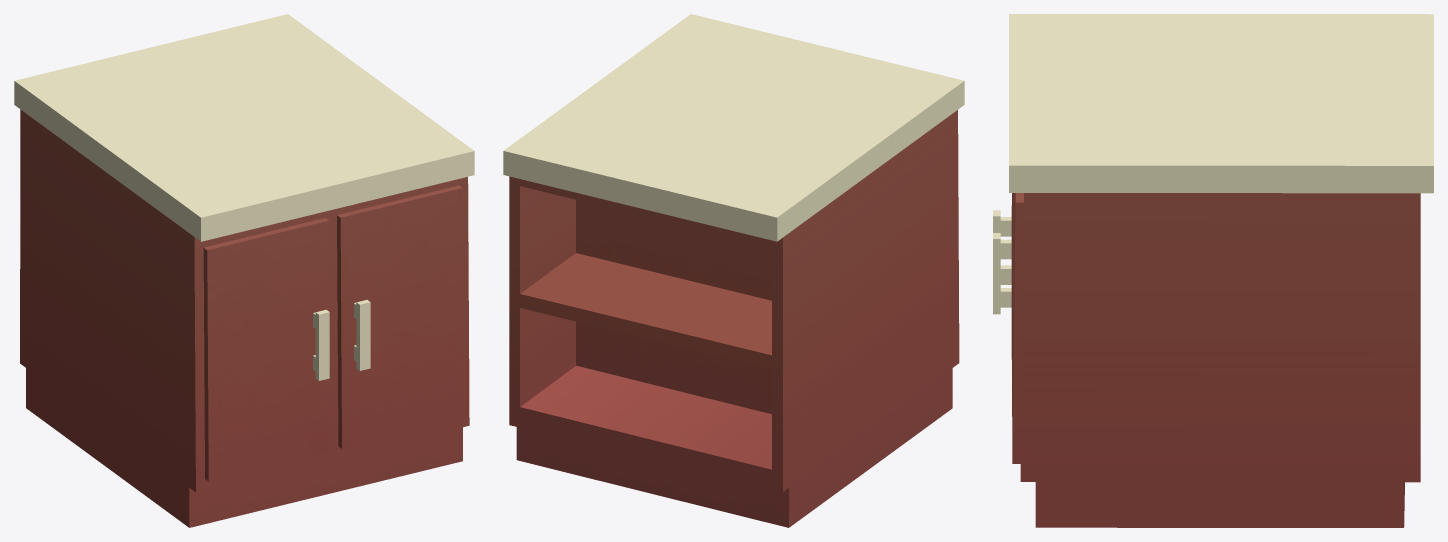
The model's file is SM_Cabinet_Island_3_04.fbx.
3 views of the same model, side by side, from view 1: azimuth 30°, elevation 25°; view 2: azimuth 150°, elevation 25°; view 3: azimuth 270°, elevation 25° (orthographic). The views are drawn at different scales.
Parts seen in each view (by area): view 1: SM_Cabinet_Island_3_04; view 2: SM_Cabinet_Island_3_04; view 3: SM_Cabinet_Island_3_04.
Part boxes in pixels (<box>): SM_Cabinet_Island_3_04: <box>14,14,474,527</box>; SM_Cabinet_Island_3_04: <box>503,14,964,527</box>; SM_Cabinet_Island_3_04: <box>993,14,1433,527</box>.
Size of the model in its own units: 96.62 by 107 by 119.
